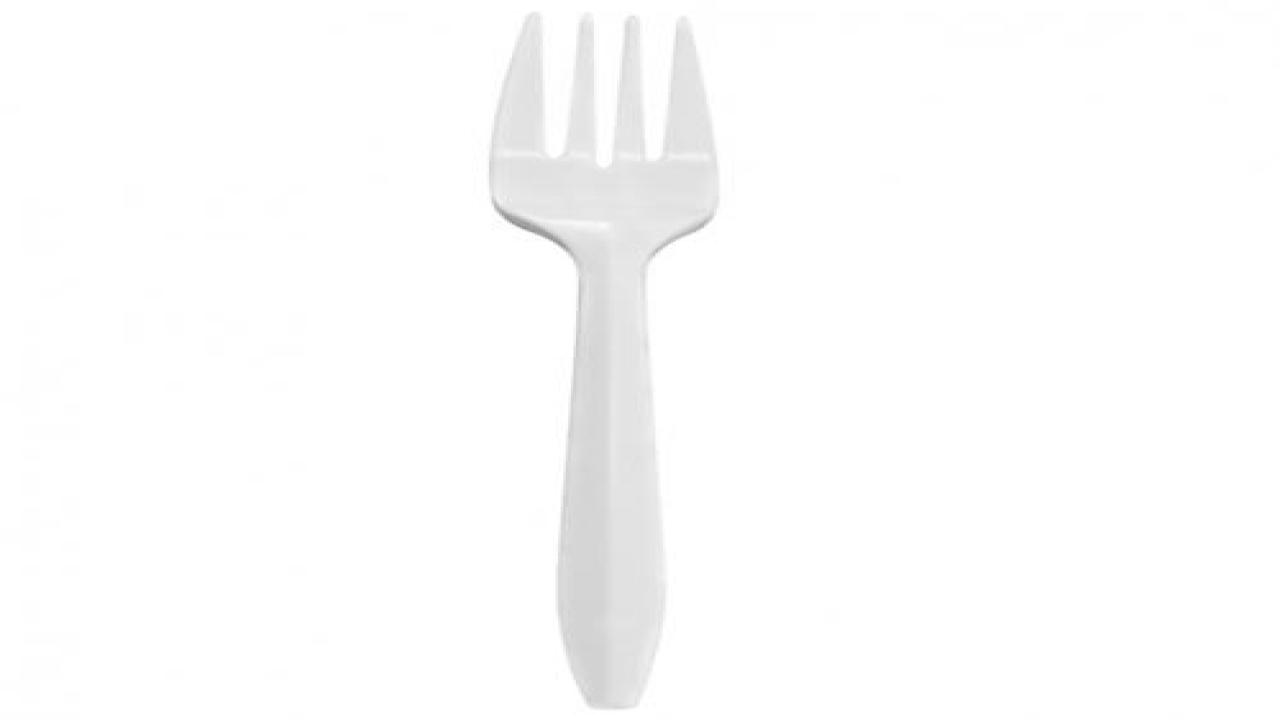fork: (484, 10, 719, 709)
